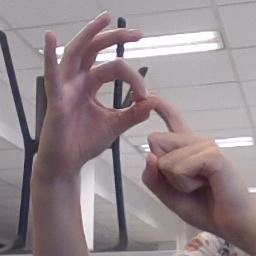Q: (37, 9, 223, 227)
